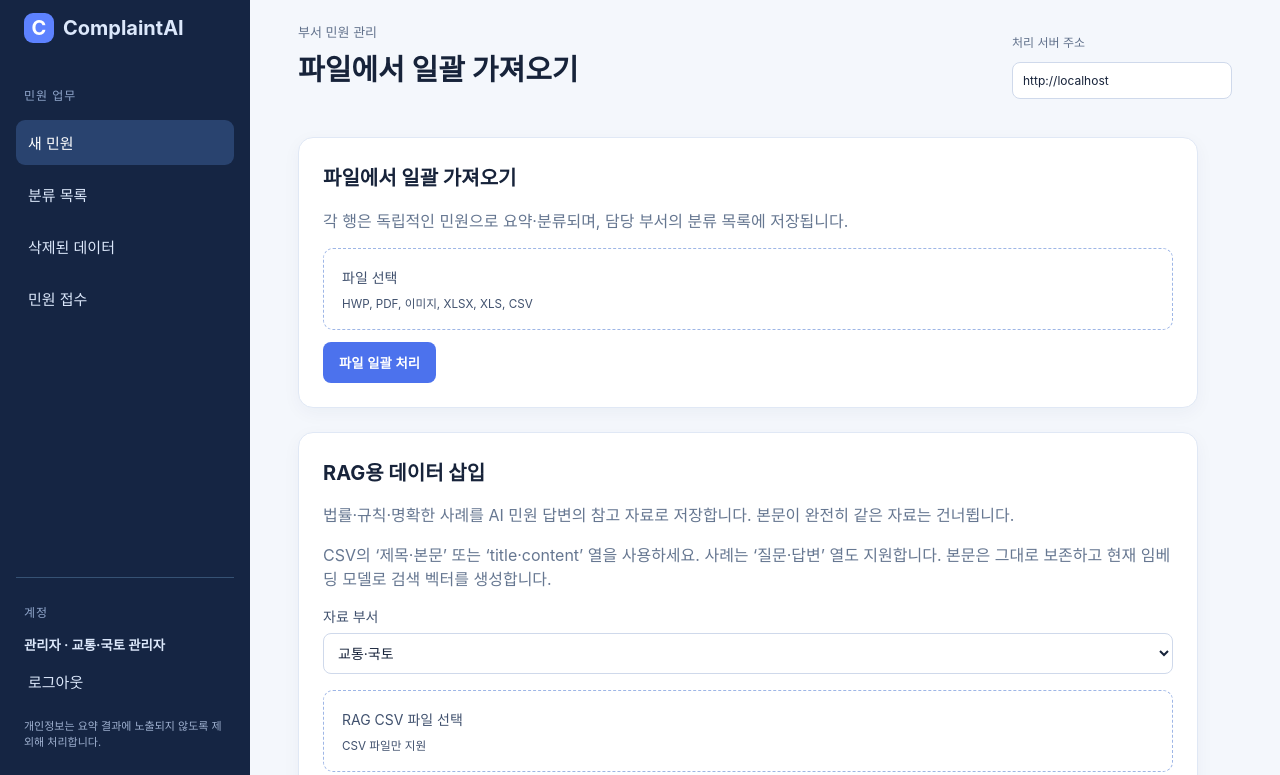
부서 민원 전체 삭제 › does not submit when the warning is dismissed with button
This screenshot has width=1280, height=775.
Click the button "분류 목록".
click(125, 194)  # box left=16, top=172, right=234, bottom=217
(page scrolled)
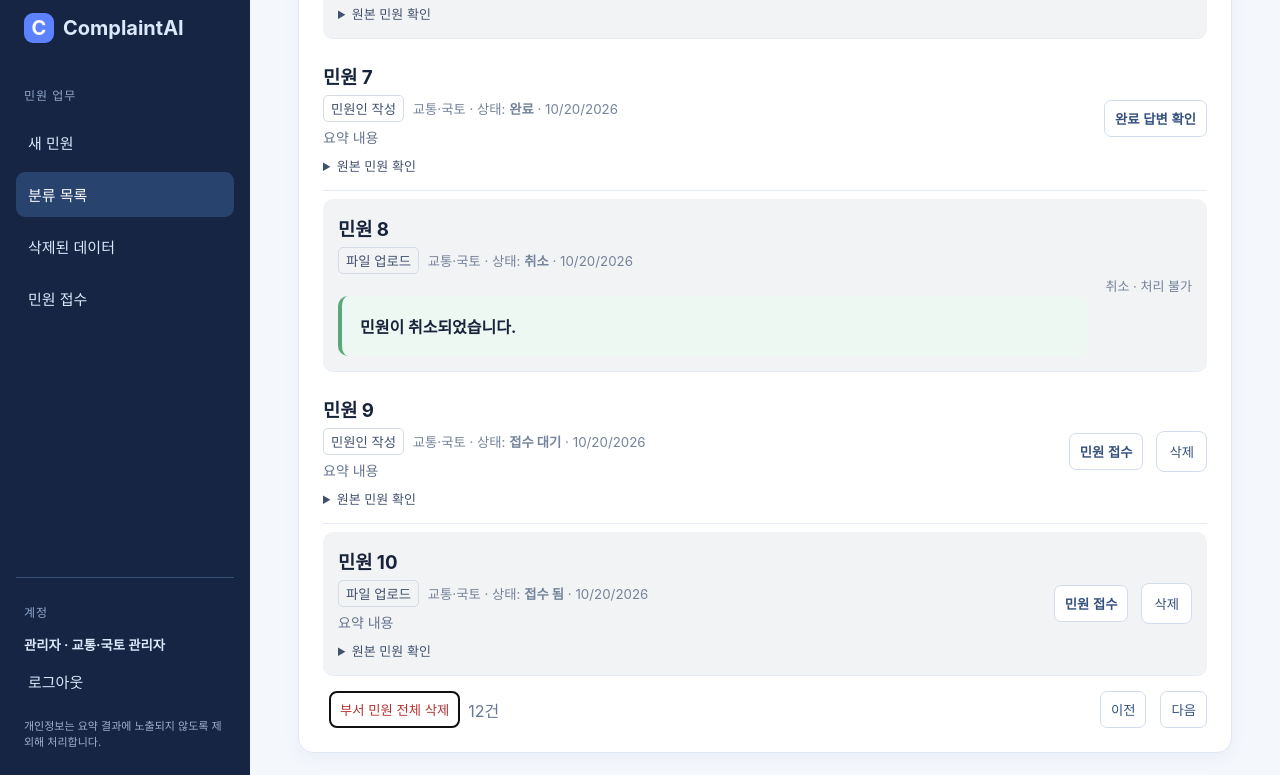
Click the button "부서 민원 전체 삭제".
click(395, 710)  # box left=329, top=691, right=460, bottom=728
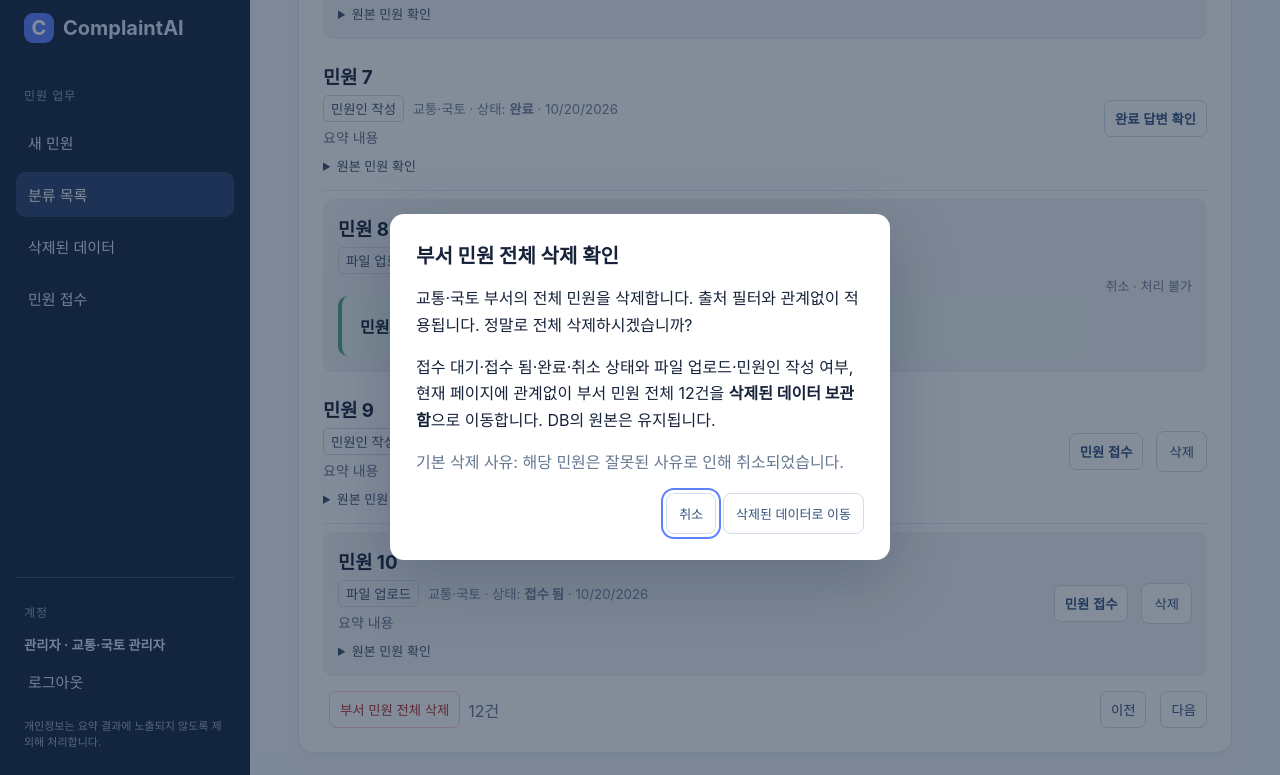
Click the button "취소".
click(691, 514)  # box left=666, top=494, right=716, bottom=534
(page scrolled)
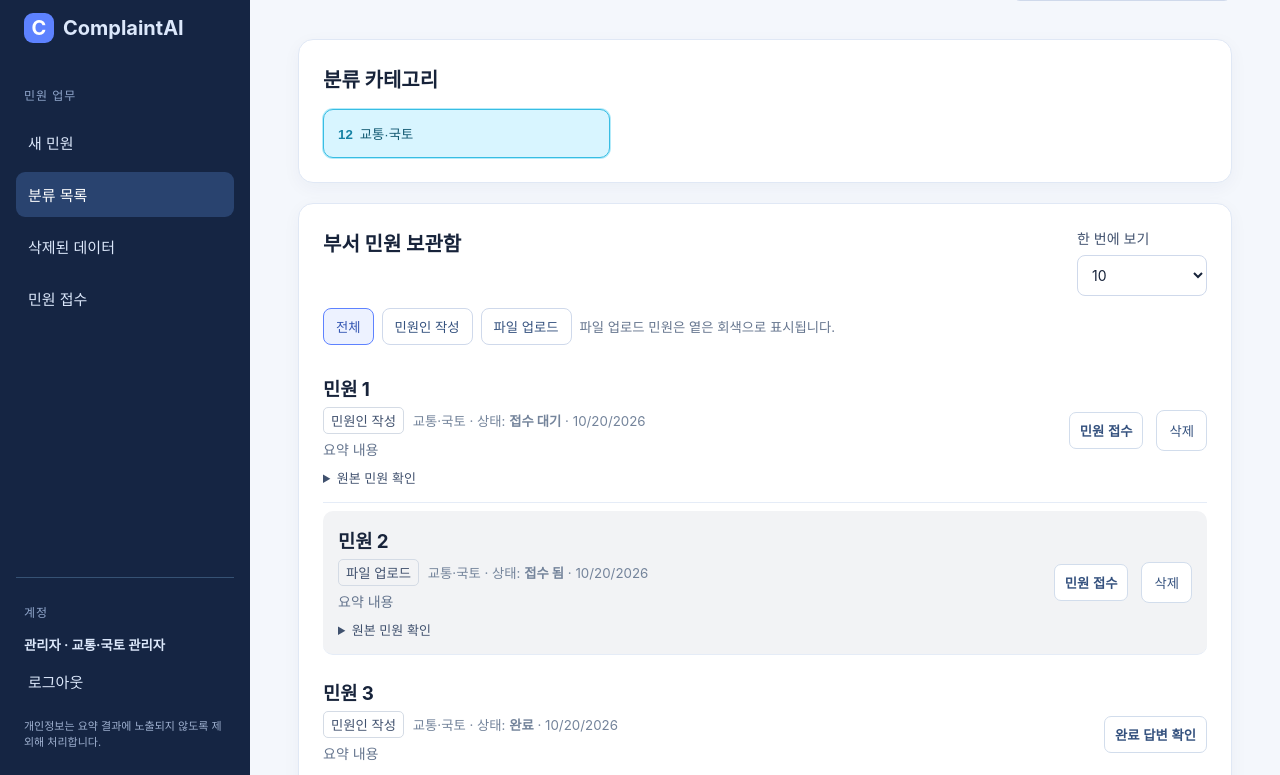
Check: the heading "민원 1" is shown, box left=323, top=378, right=370, bottom=401
Check: the dialog is gone
